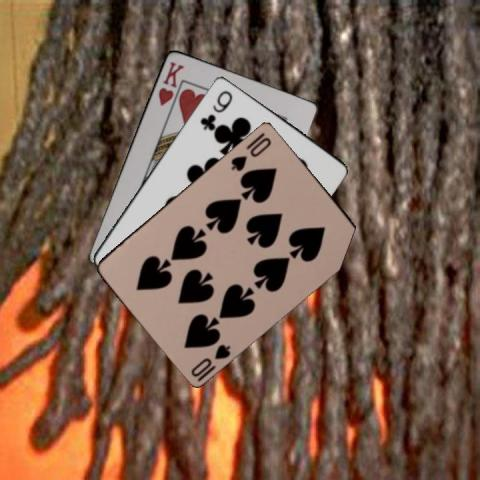10s: (187, 341, 232, 382), (228, 133, 273, 173)
9c: (197, 87, 234, 131)
Kh: (155, 58, 185, 107)
